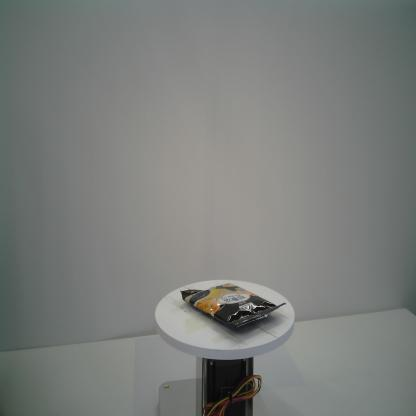Instant Drink: (180, 283, 287, 329)
